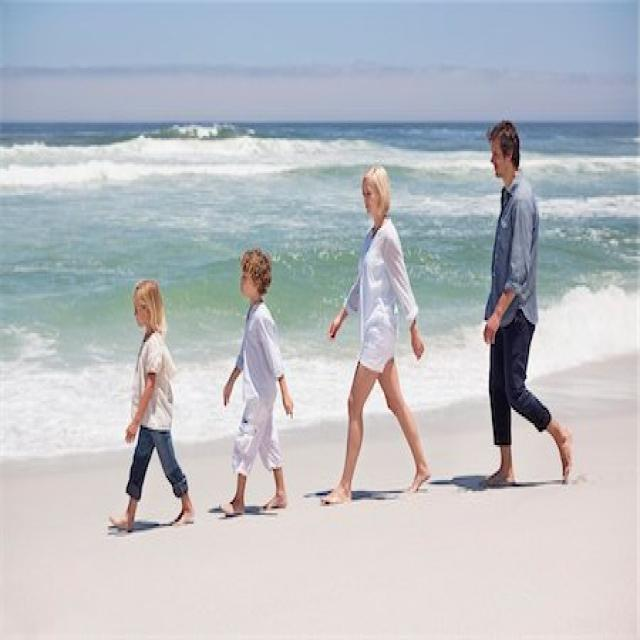Person: (322, 165, 432, 507), (478, 121, 577, 488), (109, 280, 194, 529), (219, 248, 296, 516)
